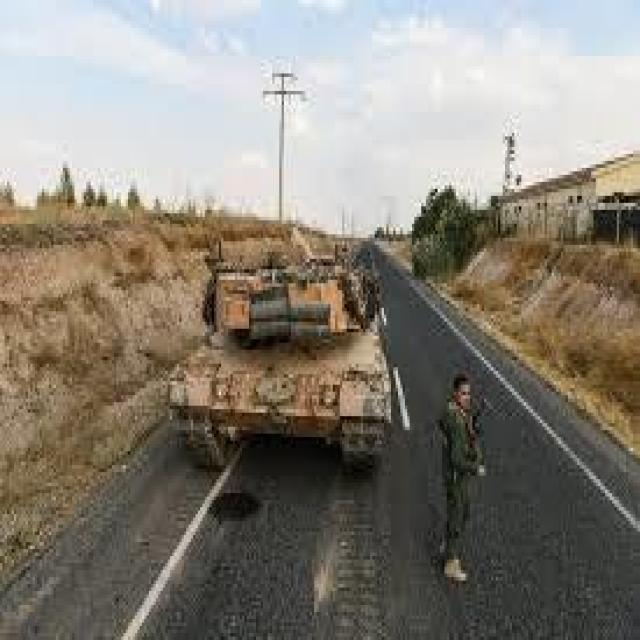Tanks: (121, 107, 419, 523)
